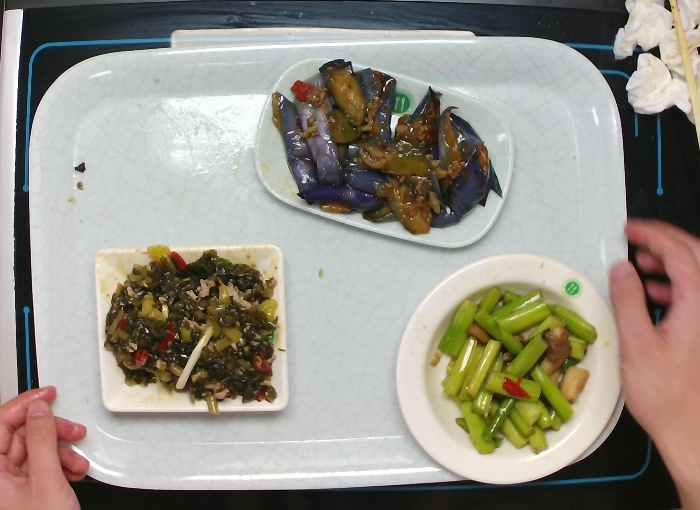WCQzf-Bai_Se_Si_Fang_Die: (90, 237, 296, 430)
WCQzf-Kuan_Bian_Yuan_Die: (385, 243, 627, 490)
WCQzf-Tuo_Yuan_Pan: (248, 50, 515, 255)
